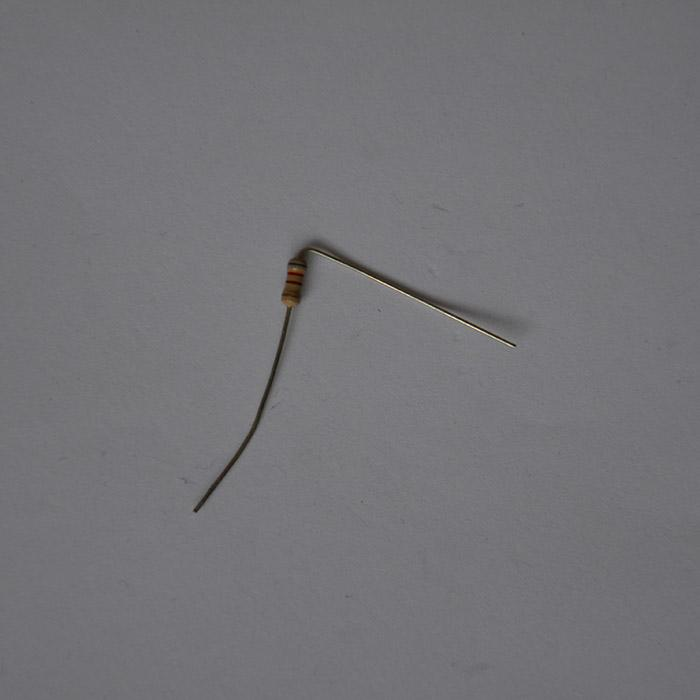resistor: (281, 257, 308, 308)
